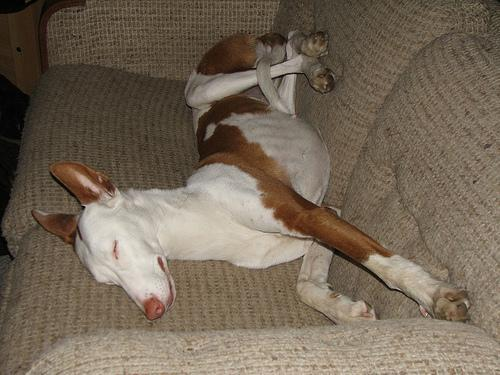Ibizan_hound: (30, 30, 469, 323)
